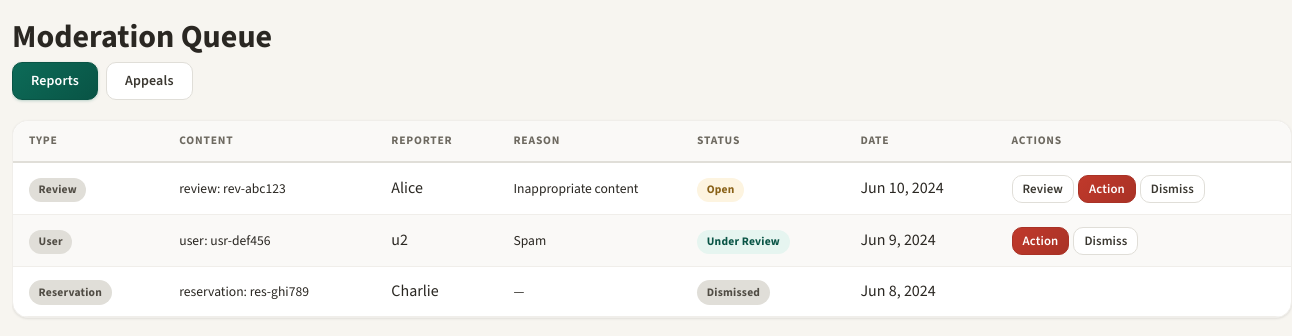
Test: ModerationPage › Appeals tab › switches to appeals tab and fetches appeals data
The width and height of the screenshot is (1292, 336).
Step 1. Click the button "Appeals" → (149, 81), box [106, 62, 193, 100]
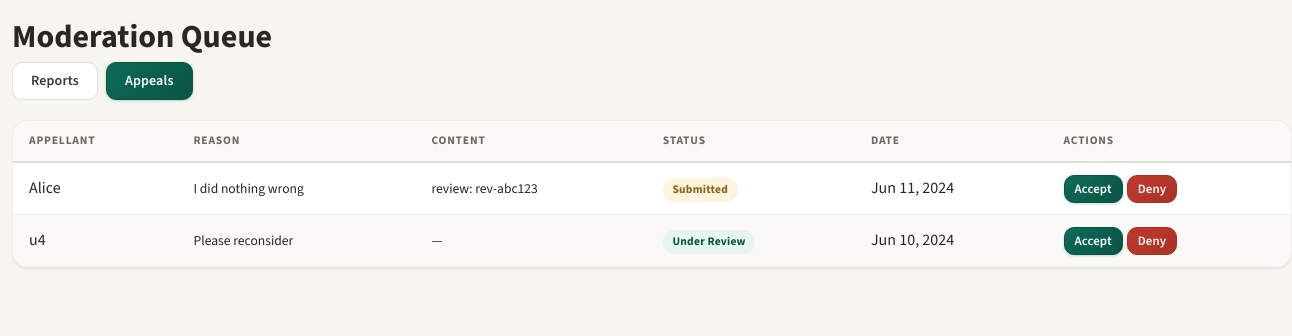
Expected: the text "I did nothing wrong" is shown, [194, 180, 304, 198]
